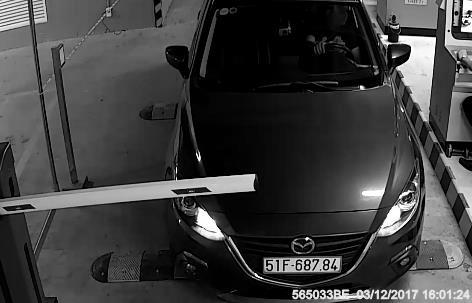License-plate: (257, 249, 349, 283)
